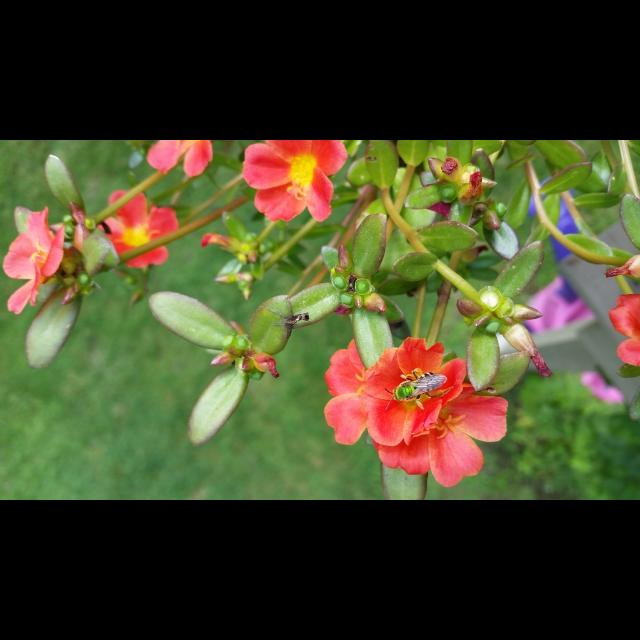Flower: (332, 327, 506, 473), (240, 140, 350, 224), (0, 205, 70, 318), (95, 189, 182, 271), (145, 140, 217, 178), (609, 294, 639, 371)
